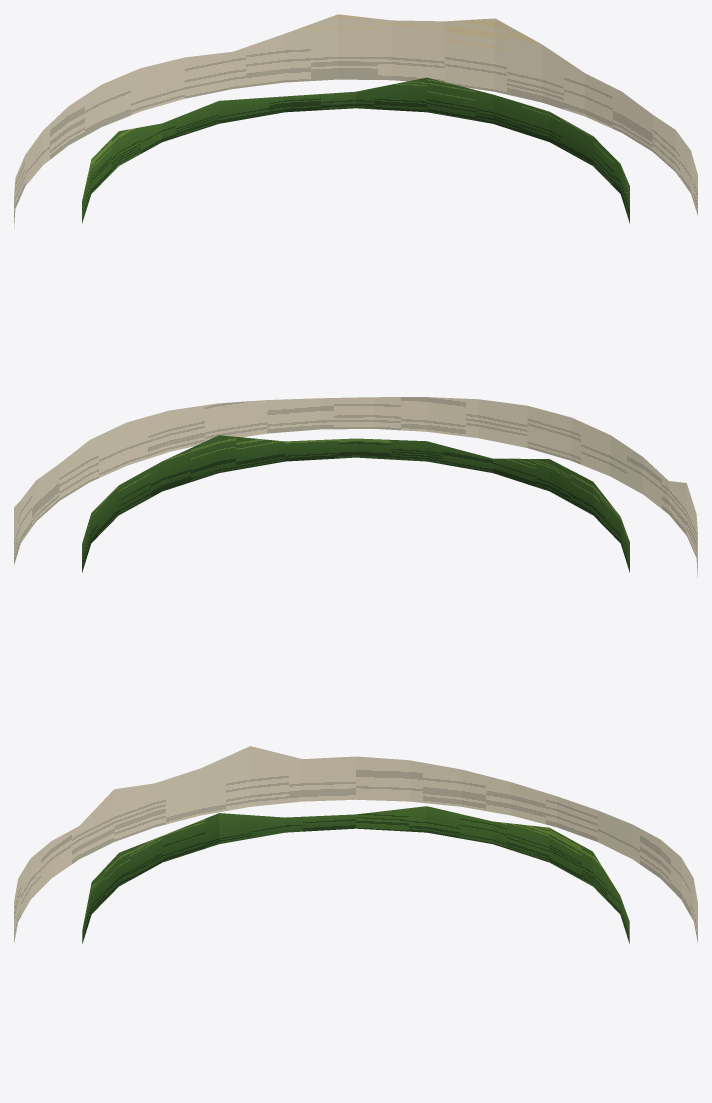
Rendered from mter.backdrop.glb.
3 views of the same model, one above another, from view 1: azimuth 30°, elevation 25°; view 2: azimuth 150°, elevation 25°; view 3: azimuth 270°, elevation 25° (orthographic).
Parts seen in each view (by area): view 1: kit_shell_vista_far, kit_shell_vista; view 2: kit_shell_vista_far, kit_shell_vista; view 3: kit_shell_vista_far, kit_shell_vista.
Boxes of the visible parts, x1=… form: kit_shell_vista_far: x1=14, y1=14, x2=697, y2=228; kit_shell_vista: x1=82, y1=77, x2=629, y2=223; kit_shell_vista_far: x1=14, y1=397, x2=697, y2=577; kit_shell_vista: x1=82, y1=435, x2=629, y2=572; kit_shell_vista_far: x1=14, y1=746, x2=697, y2=942; kit_shell_vista: x1=82, y1=806, x2=629, y2=943.
Bounding box in the file's own units: 650 × 76.93 × 650.
Materials: 2 (2 with a texture image).
